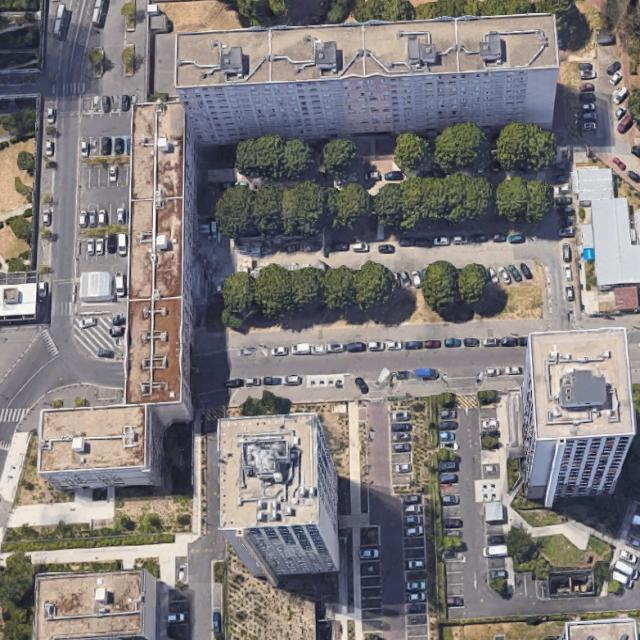immeuble: (173, 9, 561, 146), (509, 324, 640, 509), (124, 100, 198, 423), (218, 413, 336, 585), (34, 401, 169, 490), (34, 570, 156, 639), (560, 617, 638, 639)
maison: (561, 159, 640, 319)
